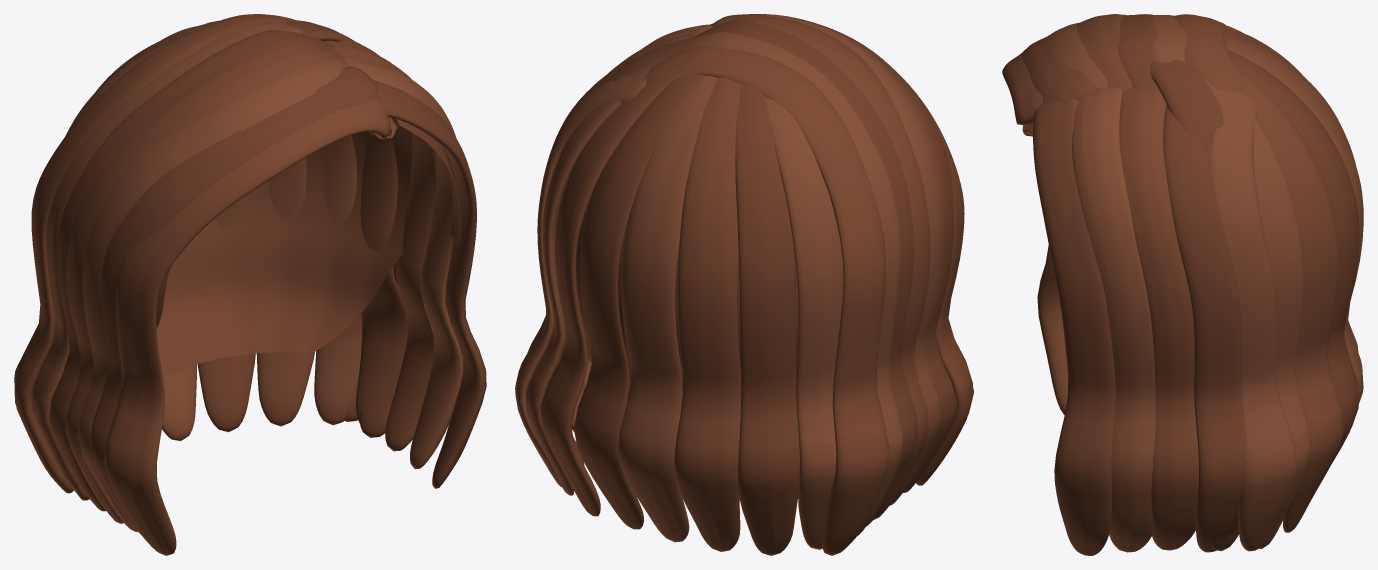
The model's file is Feminine-Feminine-straight-hair261-86e8edb4.glb.
3 renders of one model, left to right at view 1: azimuth 30°, elevation 25°; view 2: azimuth 150°, elevation 25°; view 3: azimuth 270°, elevation 25°, orthographic. The views are drawn at different scales.
Visible parts, largest first — view 1: 226 hair / Hair / sculpted 0.001, 226 hair / Hair / sculpted 1.002, 226 hair / Hair / sculpted 2.001, 226 hair / Hair / sculpted 1.001; view 2: 226 hair / Hair / sculpted 0.001, 226 hair / Hair / sculpted 2.001, 226 hair / Hair / sculpted 1.002, 226 hair / Hair / sculpted 1.001; view 3: 226 hair / Hair / sculpted 1.002, 226 hair / Hair / sculpted 2.001, 226 hair / Hair / sculpted 0.001.
Part boxes in pixels (<box>): 226 hair / Hair / sculpted 0.001: <box>14,14,434,555</box>; 226 hair / Hair / sculpted 1.002: <box>49,19,486,534</box>; 226 hair / Hair / sculpted 2.001: <box>31,20,463,531</box>; 226 hair / Hair / sculpted 1.001: <box>156,119,460,377</box>; 226 hair / Hair / sculpted 0.001: <box>540,16,973,555</box>; 226 hair / Hair / sculpted 2.001: <box>515,14,944,549</box>; 226 hair / Hair / sculpted 1.002: <box>527,14,957,555</box>; 226 hair / Hair / sculpted 1.001: <box>576,189,798,382</box>; 226 hair / Hair / sculpted 1.002: <box>1021,14,1359,555</box>; 226 hair / Hair / sculpted 2.001: <box>1045,15,1363,552</box>; 226 hair / Hair / sculpted 0.001: <box>1002,14,1358,550</box>.
Bounding box in the file's own units: 0.8536 × 0.9852 × 0.7033.
